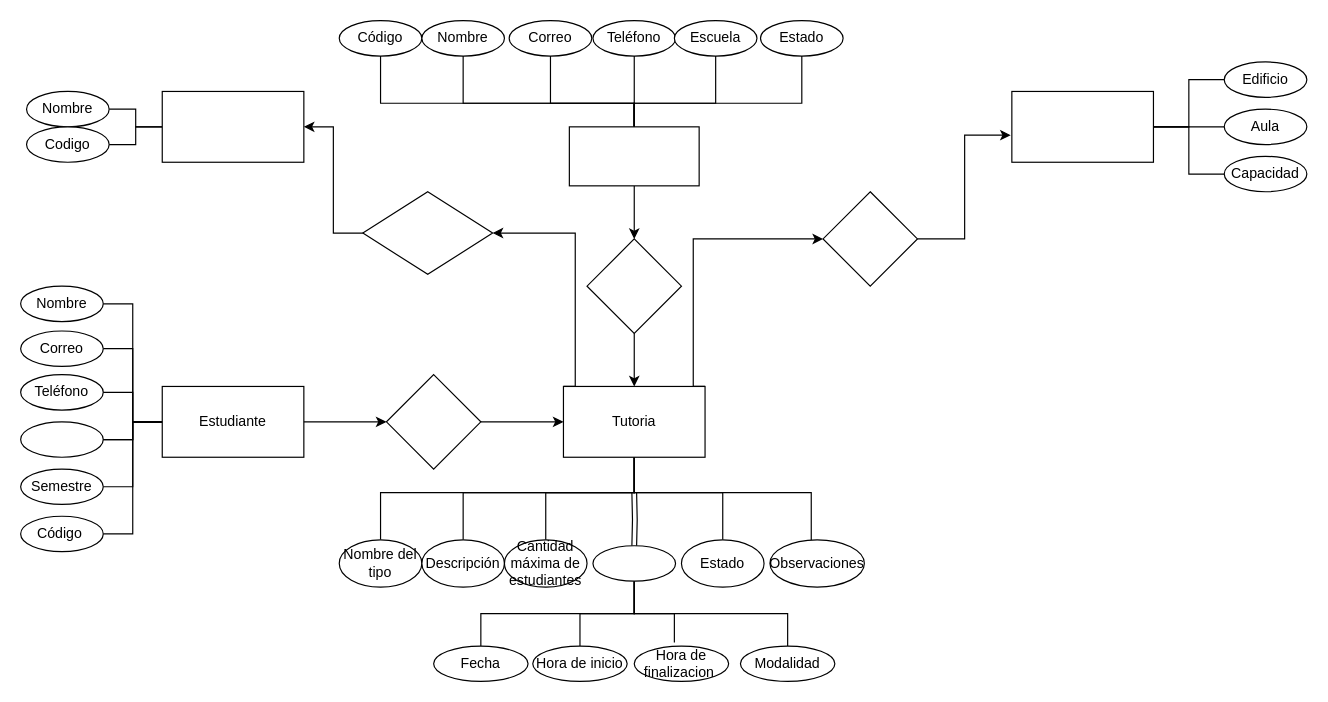
Some shapes in this 1328 by 702 pixel diagram are drawn without their labels. Each missing label, with the centre of its shape:
"Asignatura" goes at (232,126).
"Corresponde" goes at (427,232).
"Lugar" goes at (1082,126).
"Programa académico" goes at (61,439).
"Realiza" goes at (633,285).
"Recibe" goes at (433,421).
"Se realiza en" goes at (869,238).
"Sesión" goes at (634,563).
"Tutor" goes at (633,156).
